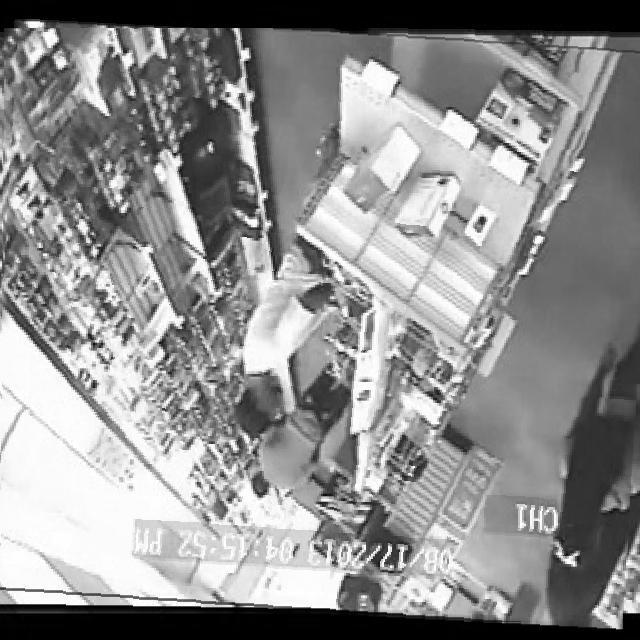Normal: (0, 28, 640, 624)
